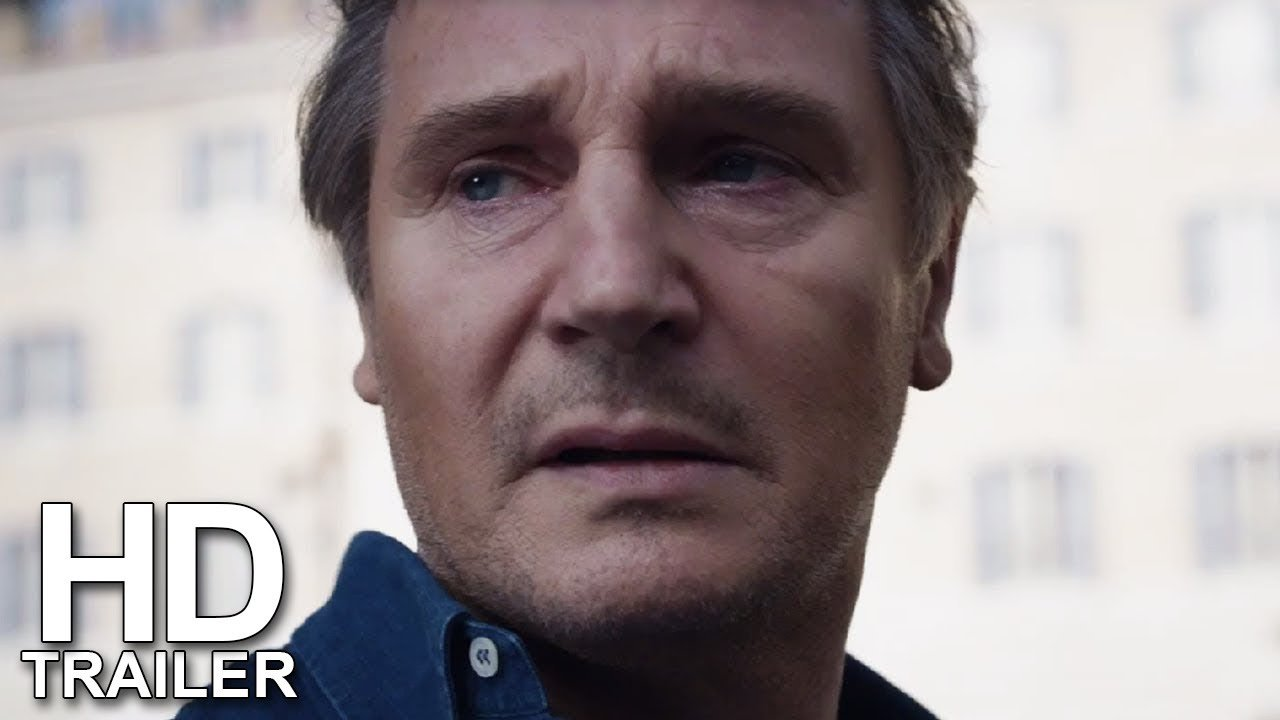noMask: (287, 12, 979, 623)
